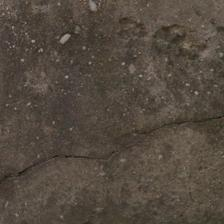Crack: (25, 77, 118, 147), (116, 88, 158, 112)
